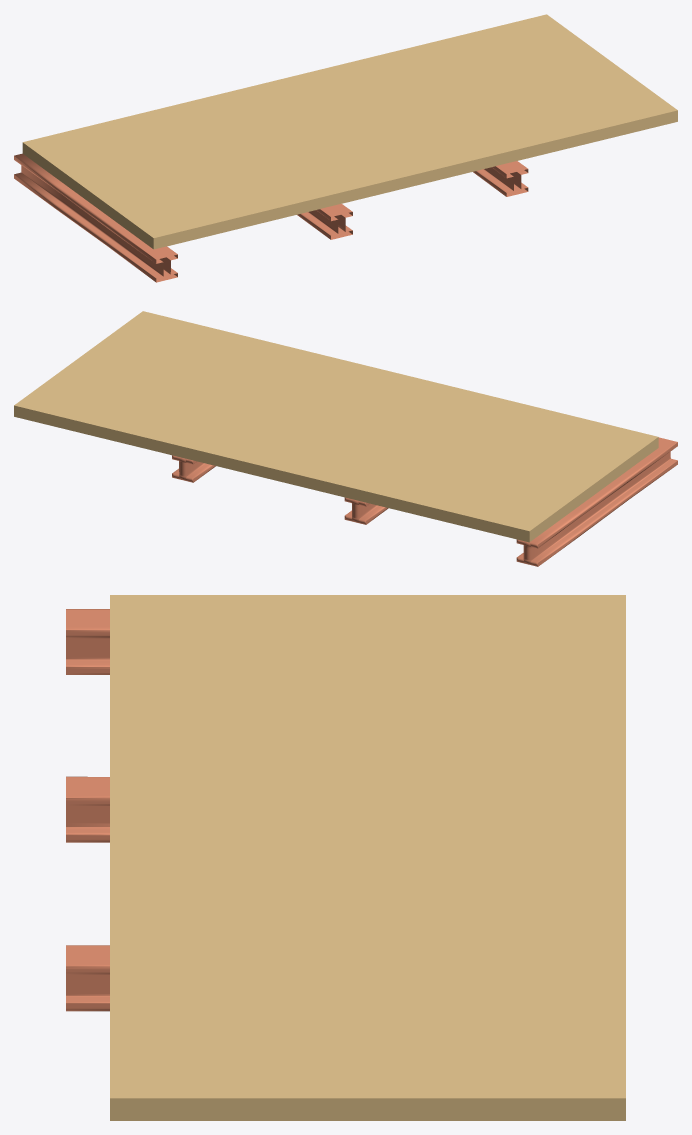
Rendered from Industrial_New_Beams_3_Floor.fbx.
The picture shows the model from 3 angles, top to bottom: view 1: azimuth 30°, elevation 25°; view 2: azimuth 150°, elevation 25°; view 3: azimuth 270°, elevation 25°; orthographic projection. The views are drawn at different scales.
Visible parts, largest first — view 1: NurbsPath.010; view 2: NurbsPath.010; view 3: NurbsPath.010.
Part boxes in pixels (<box>): NurbsPath.010: <box>14,14,677,282</box>; NurbsPath.010: <box>14,311,677,566</box>; NurbsPath.010: <box>66,595,625,1120</box>.
Size of the model in its own units: 610 by 37.34 by 282.
